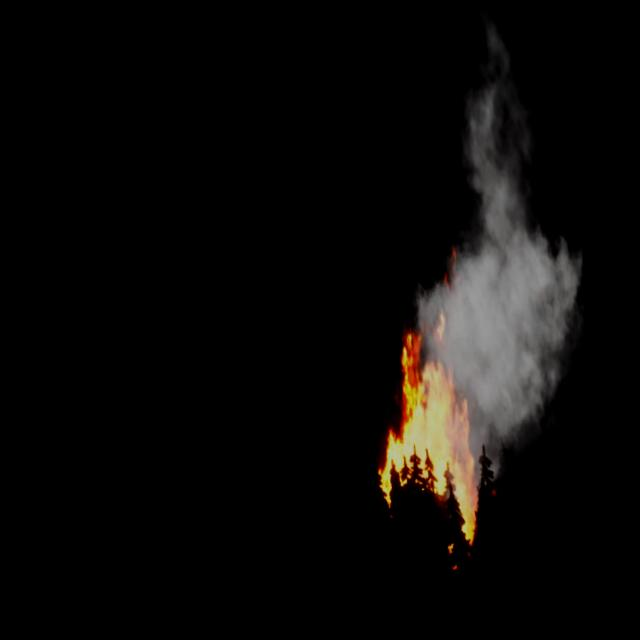fire: (354, 297, 492, 563)
smoke: (371, 0, 614, 480)
